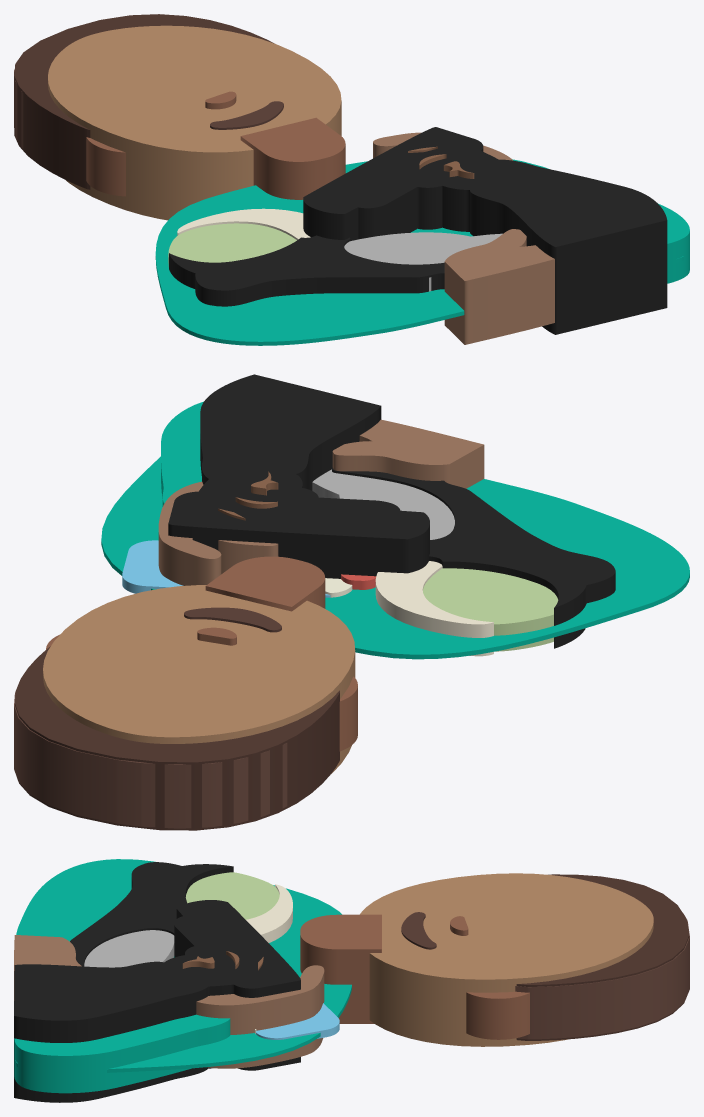
Rendered from emoji_u1f468_1f3fd_200d_1f37c.glb.
The picture shows the model from 3 angles, top to bottom: view 1: azimuth 30°, elevation 25°; view 2: azimuth 150°, elevation 25°; view 3: azimuth 270°, elevation 25°; orthographic projection. The views are drawn at different scales.
Visible parts, largest first — view 1: emoji_u1f468_1f3fd_200d_1f37c; view 2: emoji_u1f468_1f3fd_200d_1f37c; view 3: emoji_u1f468_1f3fd_200d_1f37c.
Boxes of the visible parts, x1,y1,x2,y2 form: emoji_u1f468_1f3fd_200d_1f37c: [14, 14, 689, 345]; emoji_u1f468_1f3fd_200d_1f37c: [14, 374, 689, 830]; emoji_u1f468_1f3fd_200d_1f37c: [14, 859, 689, 1102].
Bounding box in the file's own units: 0.0246 × 0.005 × 0.0328.
